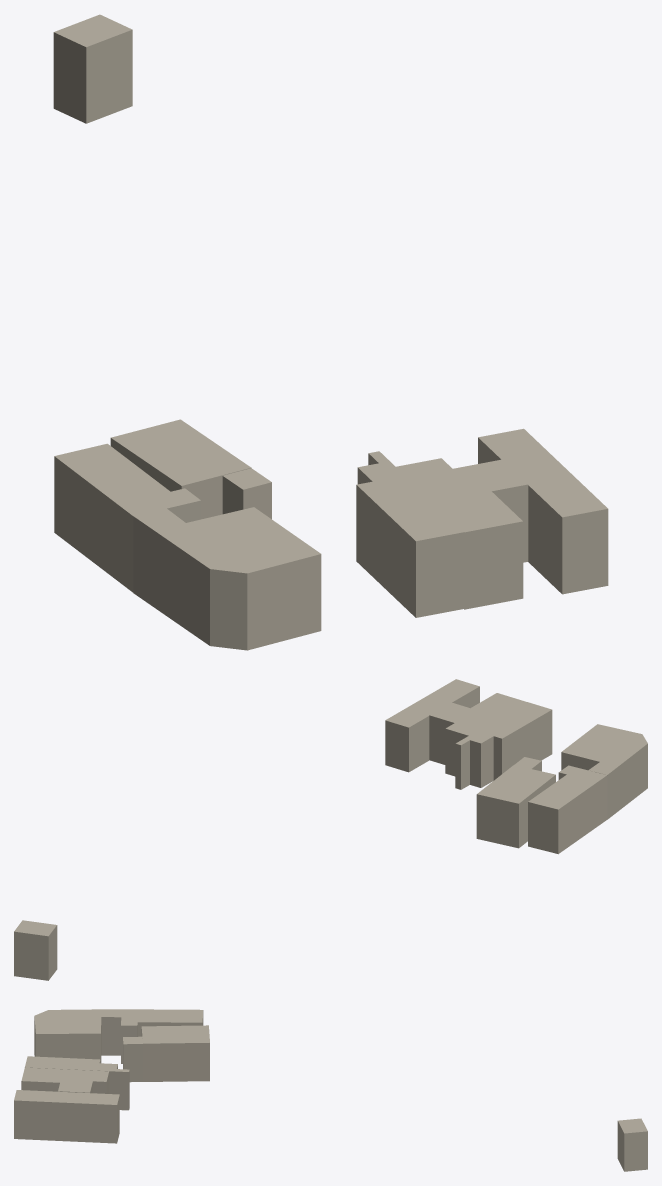
File: bormla_67_31_collision.glb
3 renders of one model, top to bottom at view 1: azimuth 30°, elevation 25°; view 2: azimuth 150°, elevation 25°; view 3: azimuth 270°, elevation 25°, orthographic. The views are drawn at different scales.
Parts seen in each view (by area): view 1: geometry_0; view 2: geometry_0; view 3: geometry_0.
Boxes of the visible parts, bbox=[...] form: geometry_0: bbox=[53, 14, 608, 650]; geometry_0: bbox=[14, 679, 647, 980]; geometry_0: bbox=[14, 1009, 647, 1171].
Bounding box in the file's own units: 70.09 × 10.73 × 153.
